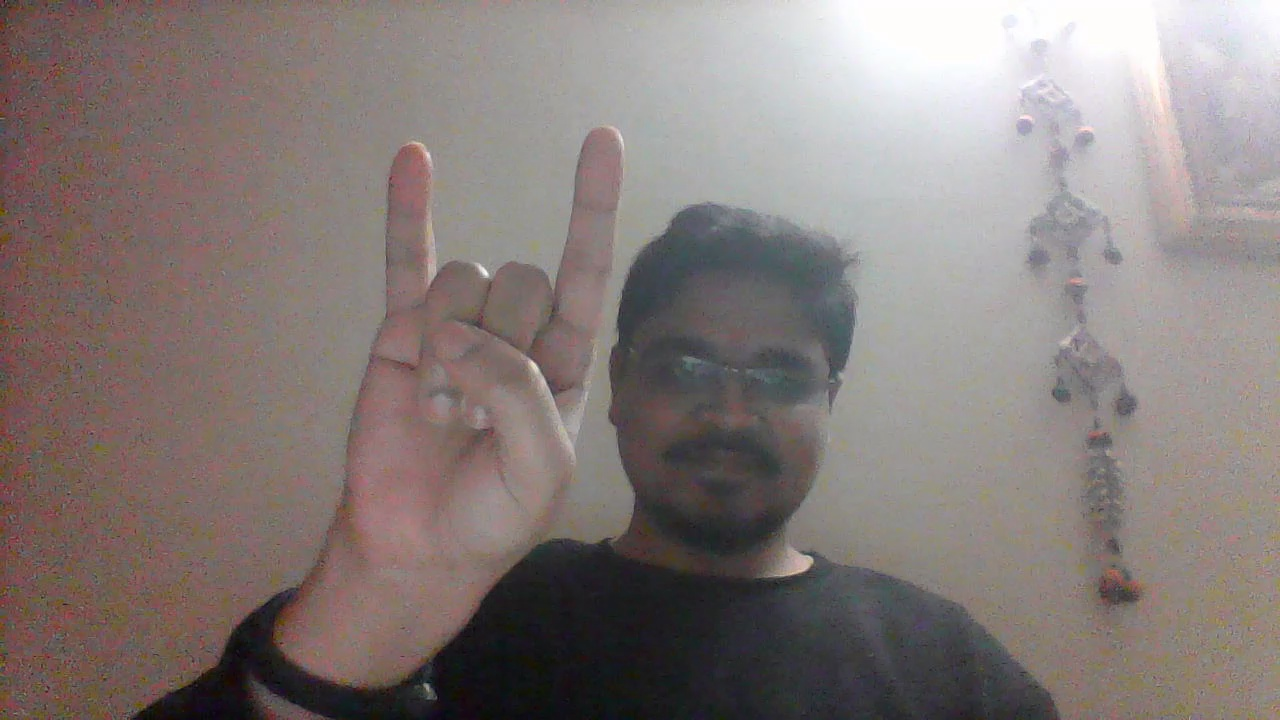ILoveYou: (334, 126, 622, 636)
